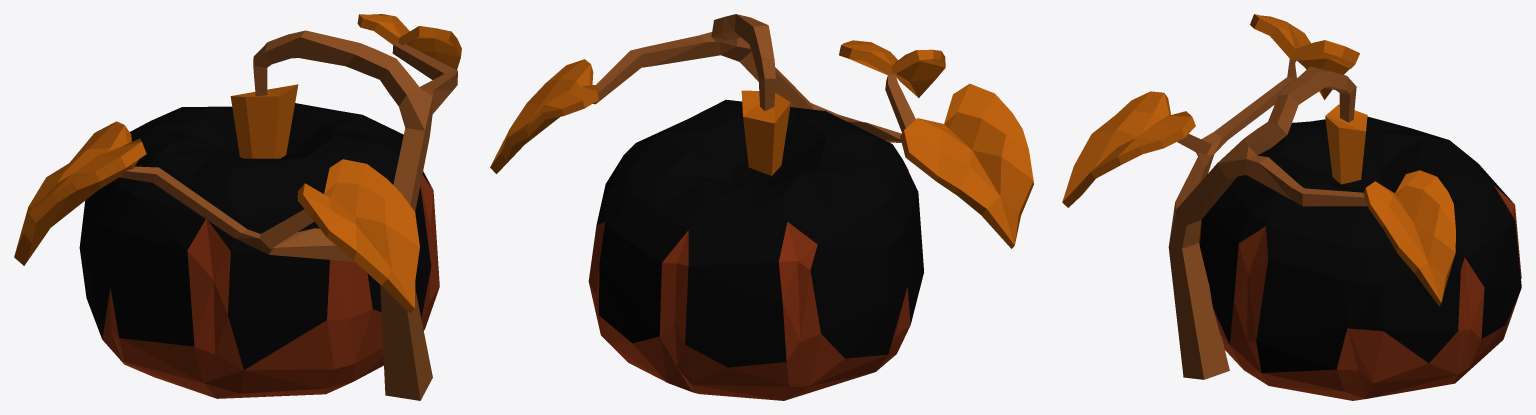
File: Pumpkin_M_Dead.fbx
3 views of the same model, side by side, from view 1: azimuth 30°, elevation 25°; view 2: azimuth 150°, elevation 25°; view 3: azimuth 270°, elevation 25° (orthographic). The views are drawn at different scales.
Visible parts, largest first — view 1: Pumpkin_M_Dead.001, Pumpkin_M_Dead; view 2: Pumpkin_M_Dead.001, Pumpkin_M_Dead; view 3: Pumpkin_M_Dead.001, Pumpkin_M_Dead.
Boxes of the visible parts, left/top/right/bottom form: Pumpkin_M_Dead.001: left=79, top=84, right=439, bottom=398; Pumpkin_M_Dead: left=14, top=14, right=461, bottom=400; Pumpkin_M_Dead.001: left=588, top=90, right=923, bottom=400; Pumpkin_M_Dead: left=490, top=14, right=1033, bottom=248; Pumpkin_M_Dead.001: left=1199, top=104, right=1521, bottom=400; Pumpkin_M_Dead: left=1062, top=14, right=1455, bottom=379.
Size of the model in its own units: 64.14 by 40.51 by 56.55.
